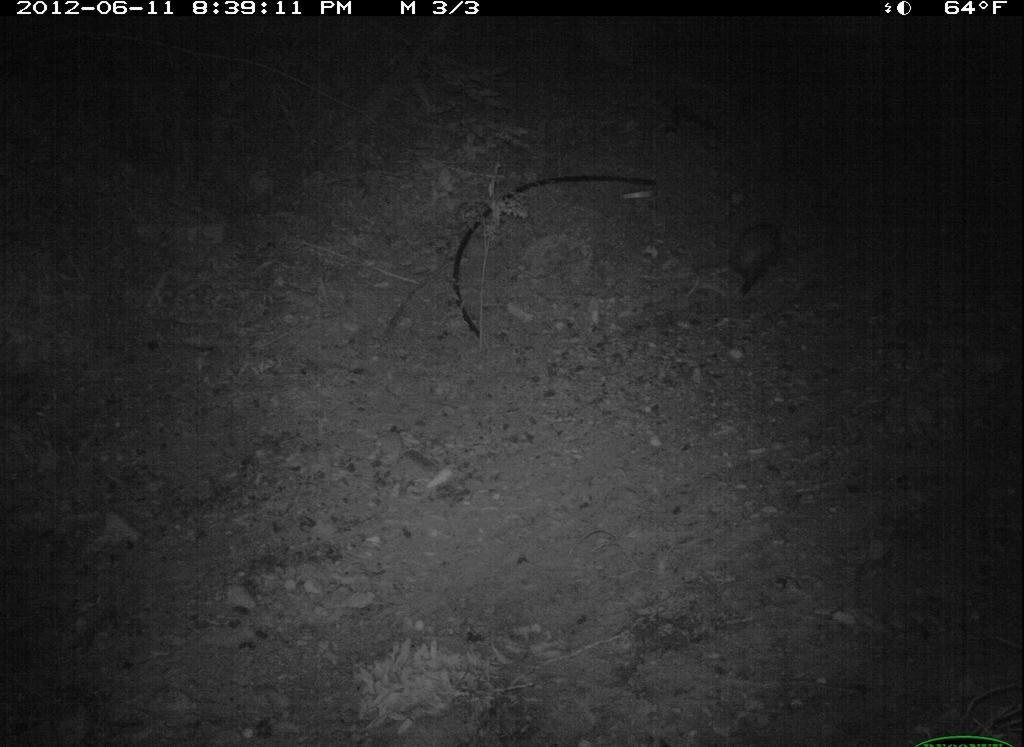opossum: (717, 207, 799, 312)
